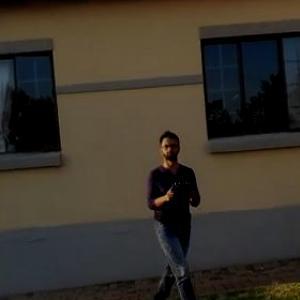follow: (150, 121, 218, 299)
